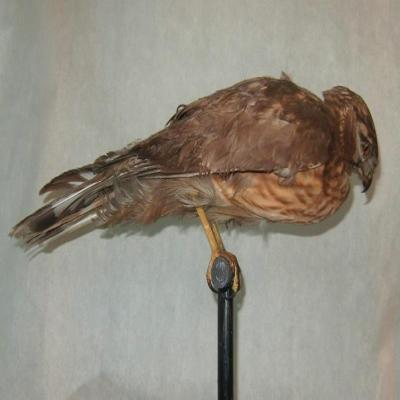natural_science_collection: (9, 72, 380, 304)
